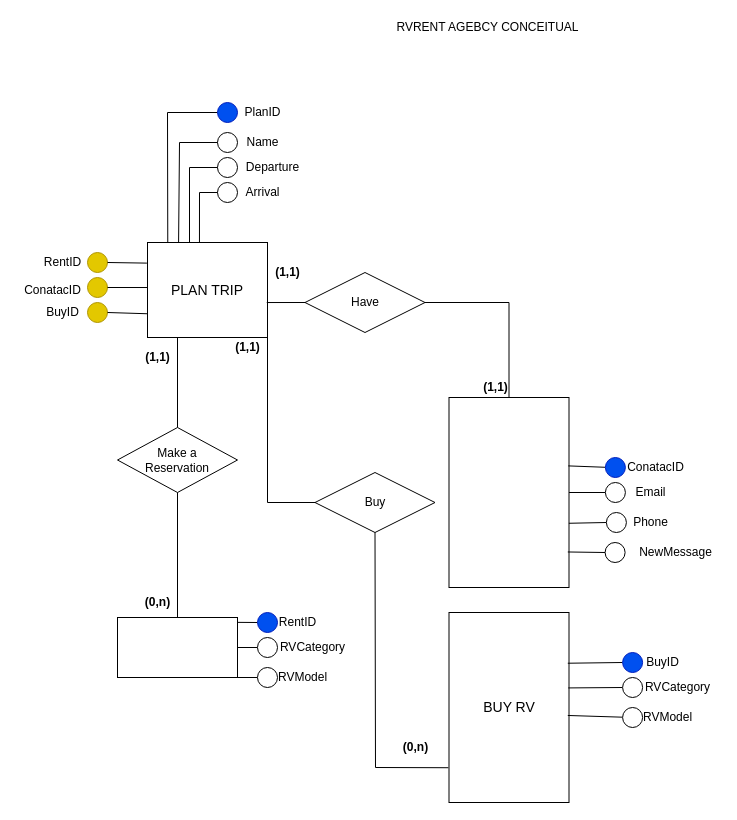
This 737x820 diagram has some shape labels left out. The centre of each missing label's shape, as x and y in pixels:
"CONTCT US" goes at point (508, 492).
"RENT RV" goes at point (177, 647).
